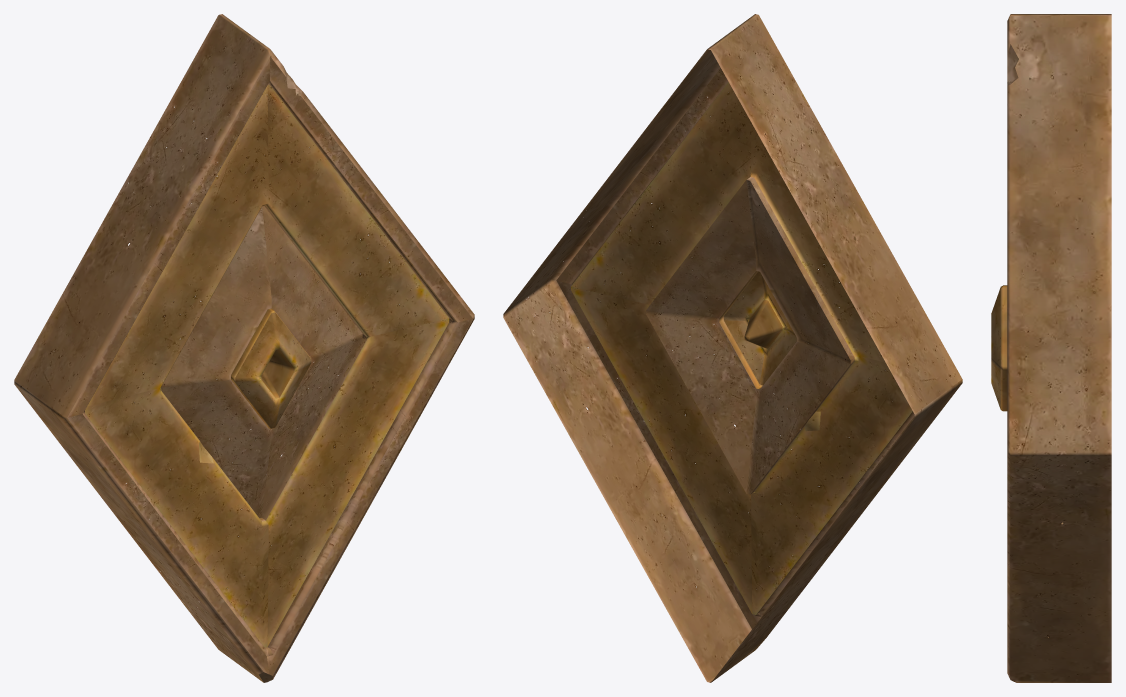
3 renders of one model, left to right at view 1: azimuth 30°, elevation 25°; view 2: azimuth 150°, elevation 25°; view 3: azimuth 270°, elevation 25°, orthographic. The views are drawn at different scales.
Parts seen in each view (by area): view 1: SM_Wall_Fire_Jet_Trap_01_LOD0; view 2: SM_Wall_Fire_Jet_Trap_01_LOD0; view 3: SM_Wall_Fire_Jet_Trap_01_LOD0.
Part boxes in pixels (<box>): SM_Wall_Fire_Jet_Trap_01_LOD0: <box>14,14,474,682</box>; SM_Wall_Fire_Jet_Trap_01_LOD0: <box>503,14,962,682</box>; SM_Wall_Fire_Jet_Trap_01_LOD0: <box>991,14,1111,682</box>.
Size of the model in its own units: 0.6422 by 0.945 by 0.1548.
Materials: 1 (1 with a texture image).
